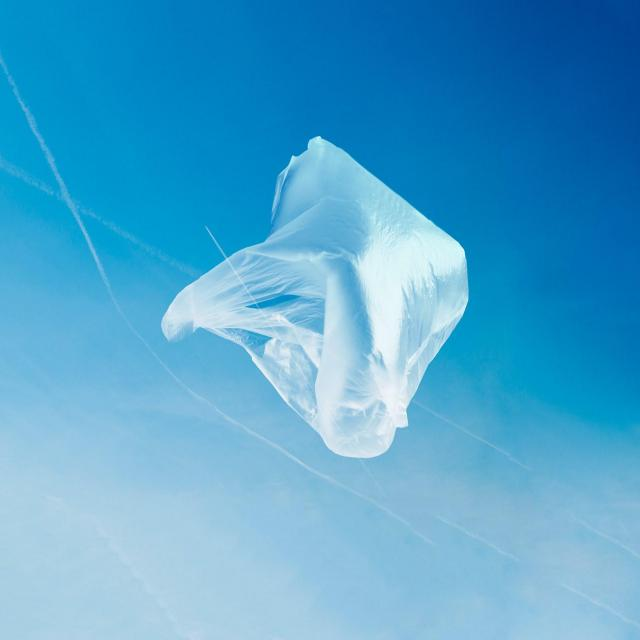plastic_bag: (159, 134, 474, 462)
